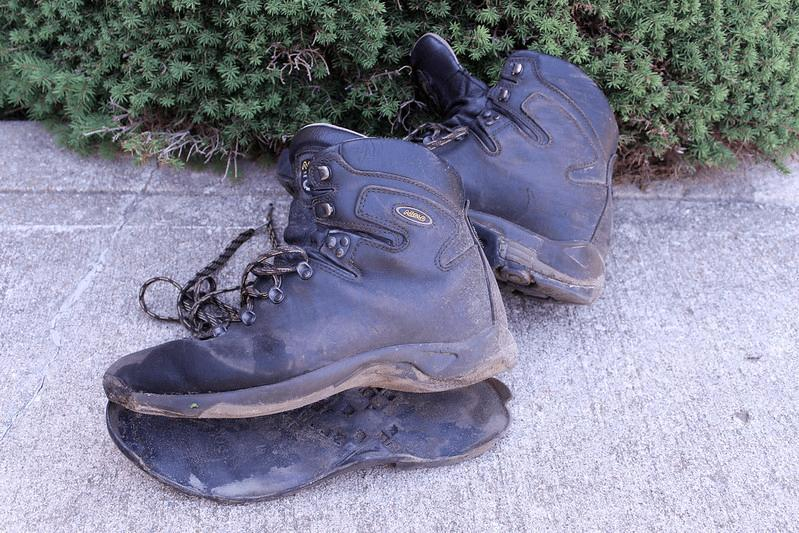bonding: (101, 359, 529, 507)
